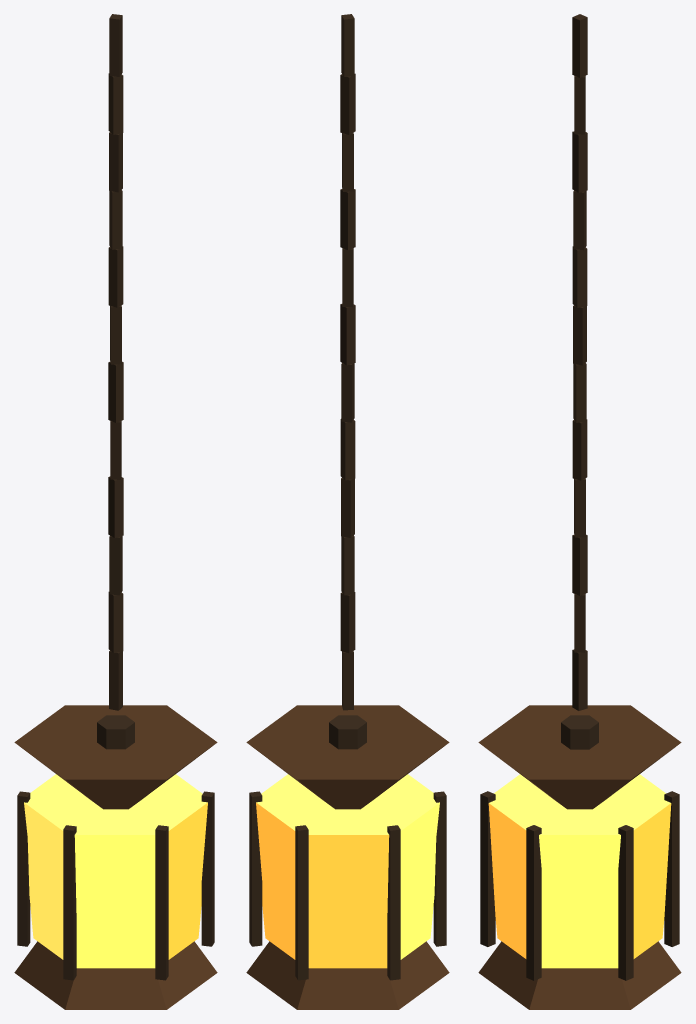
Rendered from lantern.glb.
The picture shows the model from 3 angles, left to right: view 1: azimuth 30°, elevation 25°; view 2: azimuth 150°, elevation 25°; view 3: azimuth 270°, elevation 25°; orthographic projection.
Parts seen in each view (by area): view 1: lantern; view 2: lantern; view 3: lantern.
Boxes of the visible parts, x1,y1,x2,y2 form: lantern: [14, 14, 217, 1009]; lantern: [246, 14, 449, 1009]; lantern: [478, 14, 681, 1009].
Size of the model in its own units: 0.2771 by 1.7 by 0.32.
